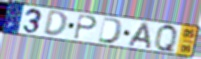3: (21, 7, 46, 35)
A: (126, 21, 153, 51)
D: (96, 16, 124, 45), (42, 10, 69, 38)
P: (73, 13, 99, 41)
Q: (154, 23, 178, 55)
